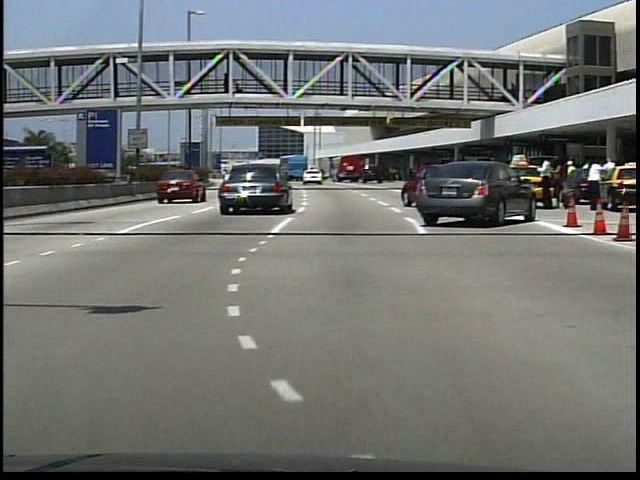person: (533, 154, 555, 214), (582, 159, 606, 212), (562, 159, 580, 210), (220, 73, 232, 97)
